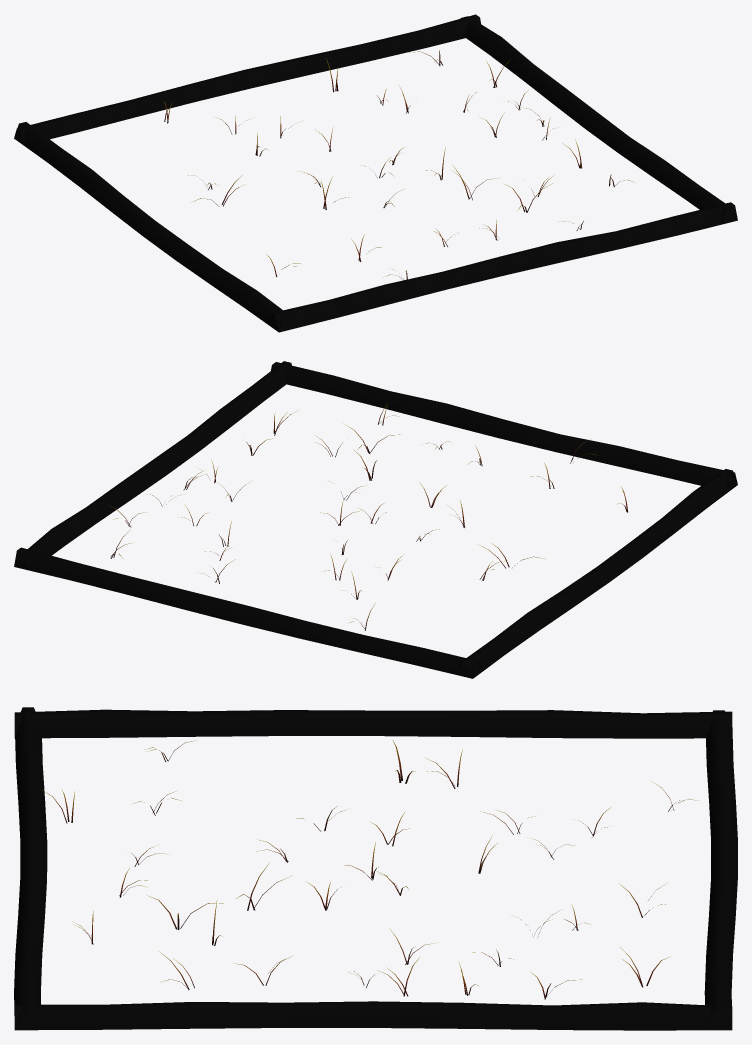
Rendered from patch_paddy_fallow_far.glb.
3 views of the same model, one above another, from view 1: azimuth 30°, elevation 25°; view 2: azimuth 150°, elevation 25°; view 3: azimuth 270°, elevation 25° (orthographic). The views are drawn at different scales.
Parts seen in each view (by area): view 1: patch_paddy_fallow_far; view 2: patch_paddy_fallow_far; view 3: patch_paddy_fallow_far.
Part boxes in pixels (x1,y1,x2,y2): patch_paddy_fallow_far: [14, 14, 737, 332]; patch_paddy_fallow_far: [14, 361, 737, 678]; patch_paddy_fallow_far: [14, 707, 737, 1030].
Bounding box in the file's own units: 12.11 × 0.7419 × 12.11.
Materials: 1 (1 with a texture image).
